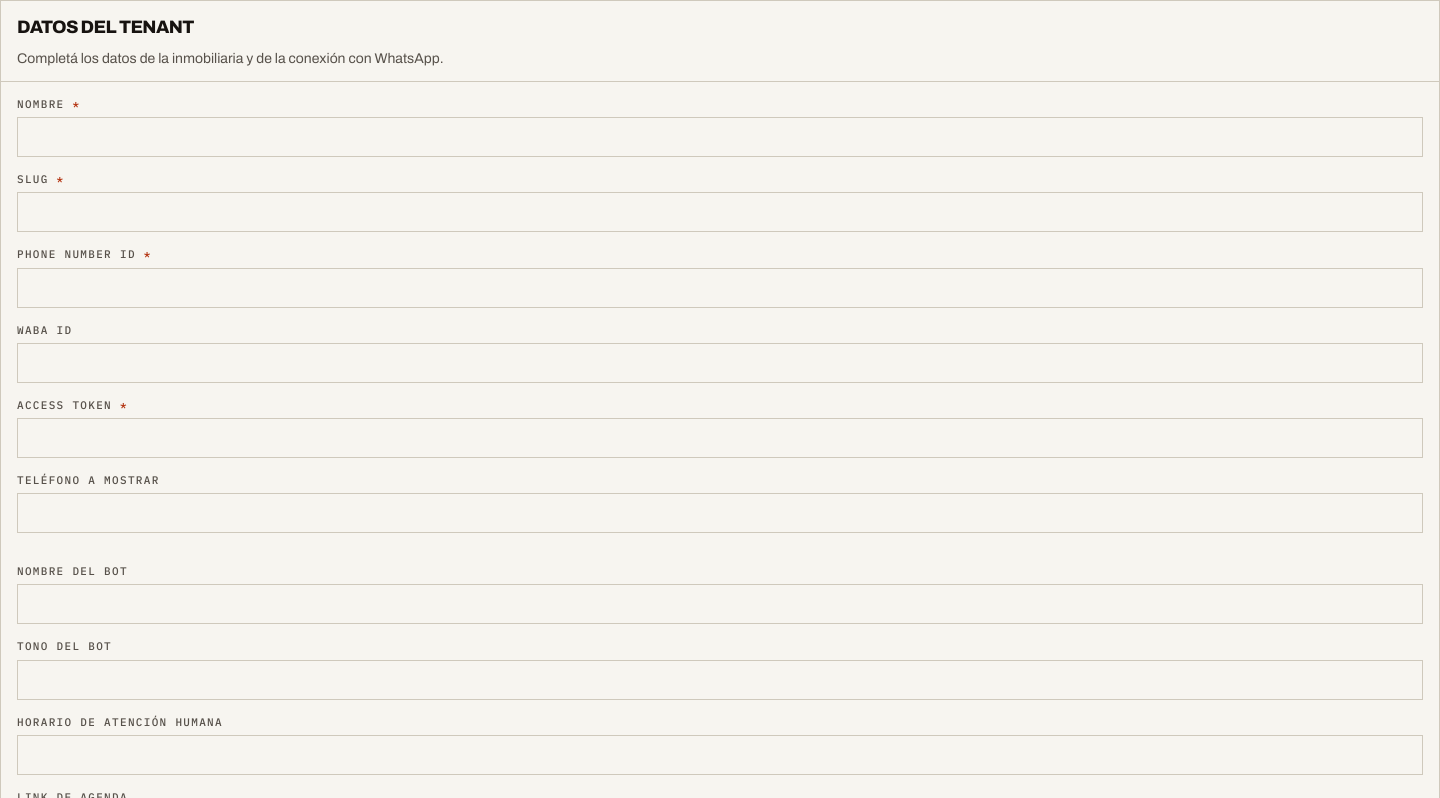
Test: TenantCreateForm › ConflictError sin substring reconocible se muestra como error general del formulario
This screenshot has width=1440, height=798.
In the field labelled "Nombre": {"x": 720, "y": 137} [17,117,1423,157], type "Inmobiliaria Test"
In the field labelled "Slug": {"x": 720, "y": 212} [17,192,1423,232], type "inmo-test"
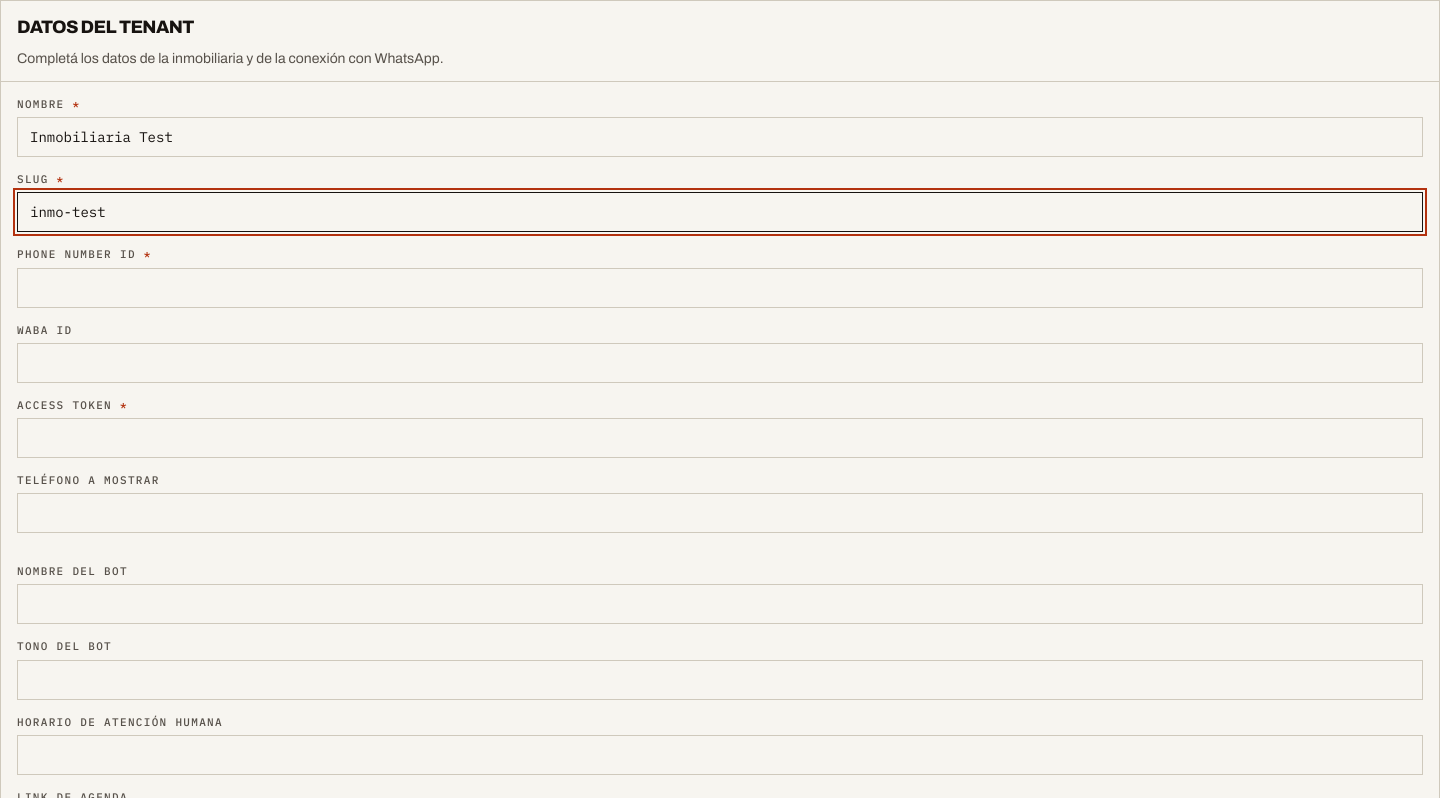
In the field labelled "Phone Number ID": {"x": 720, "y": 288} [17,268,1423,308], type "123456789"
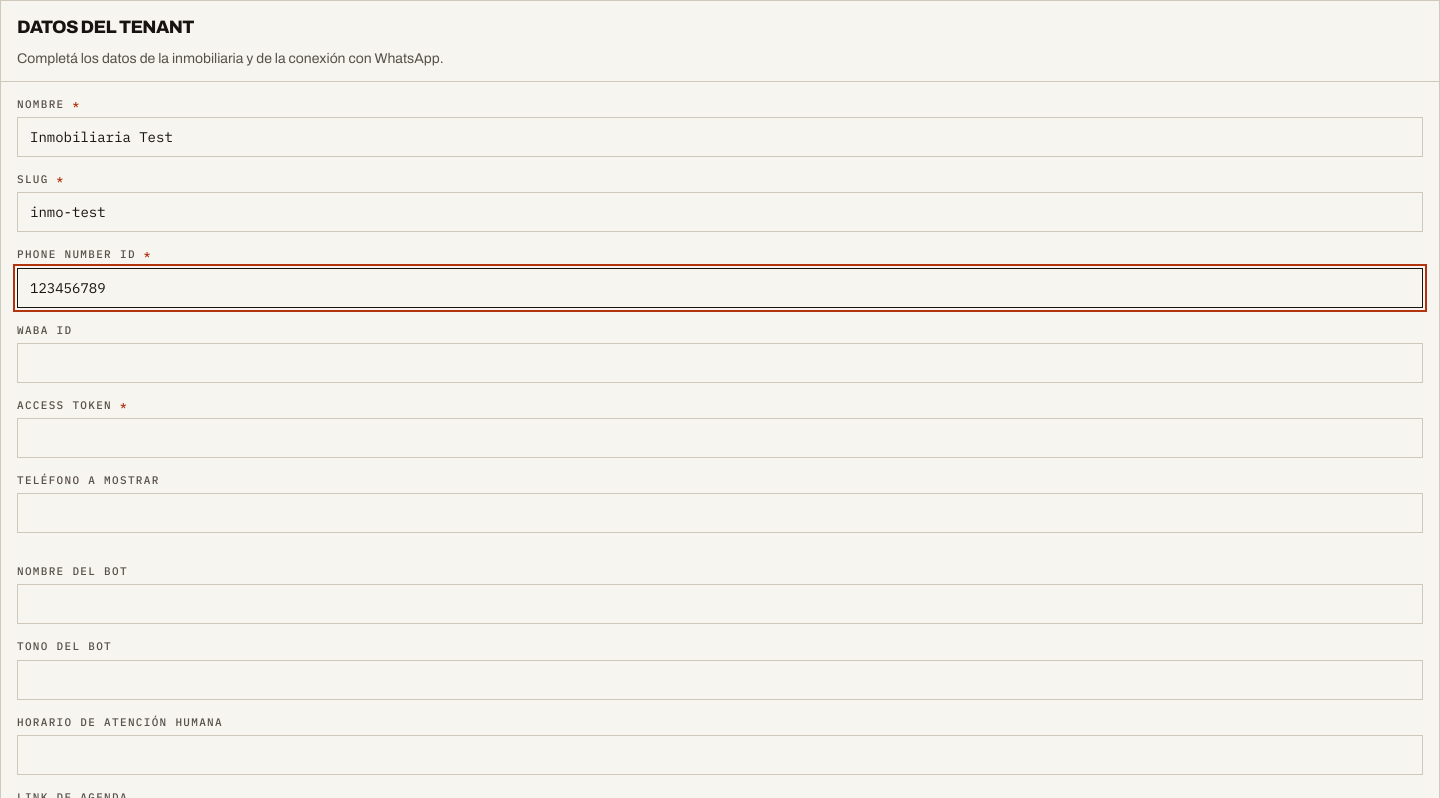
In the password field labelled "Access token": {"x": 720, "y": 438} [17,418,1423,458], type "secret-token"
(page scrolled)
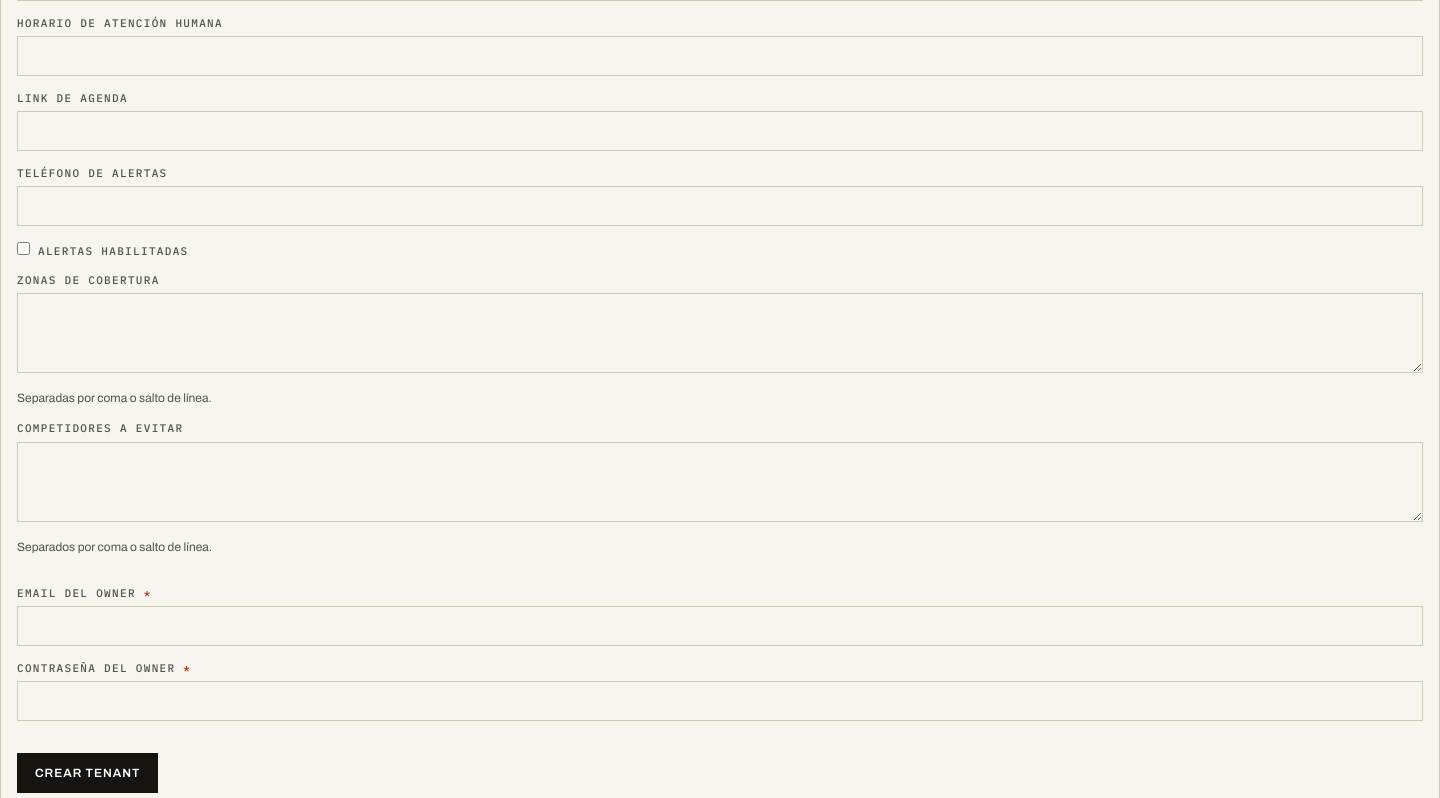
In the field labelled "Email del owner": {"x": 720, "y": 626} [17,606,1423,646], type "owner@inmo.com"
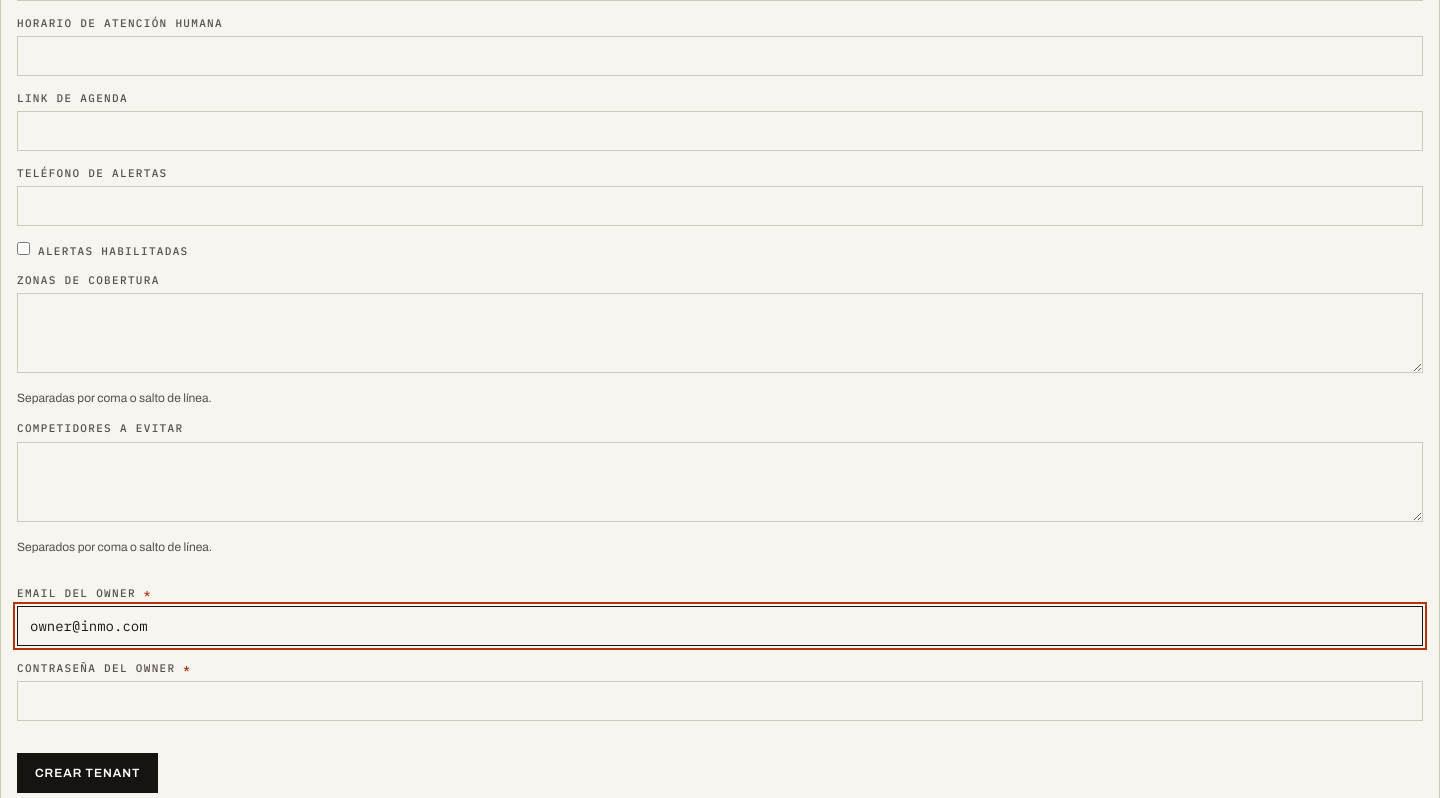
In the password field labelled "Contraseña del owner": {"x": 720, "y": 701} [17,681,1423,721], type "password123"
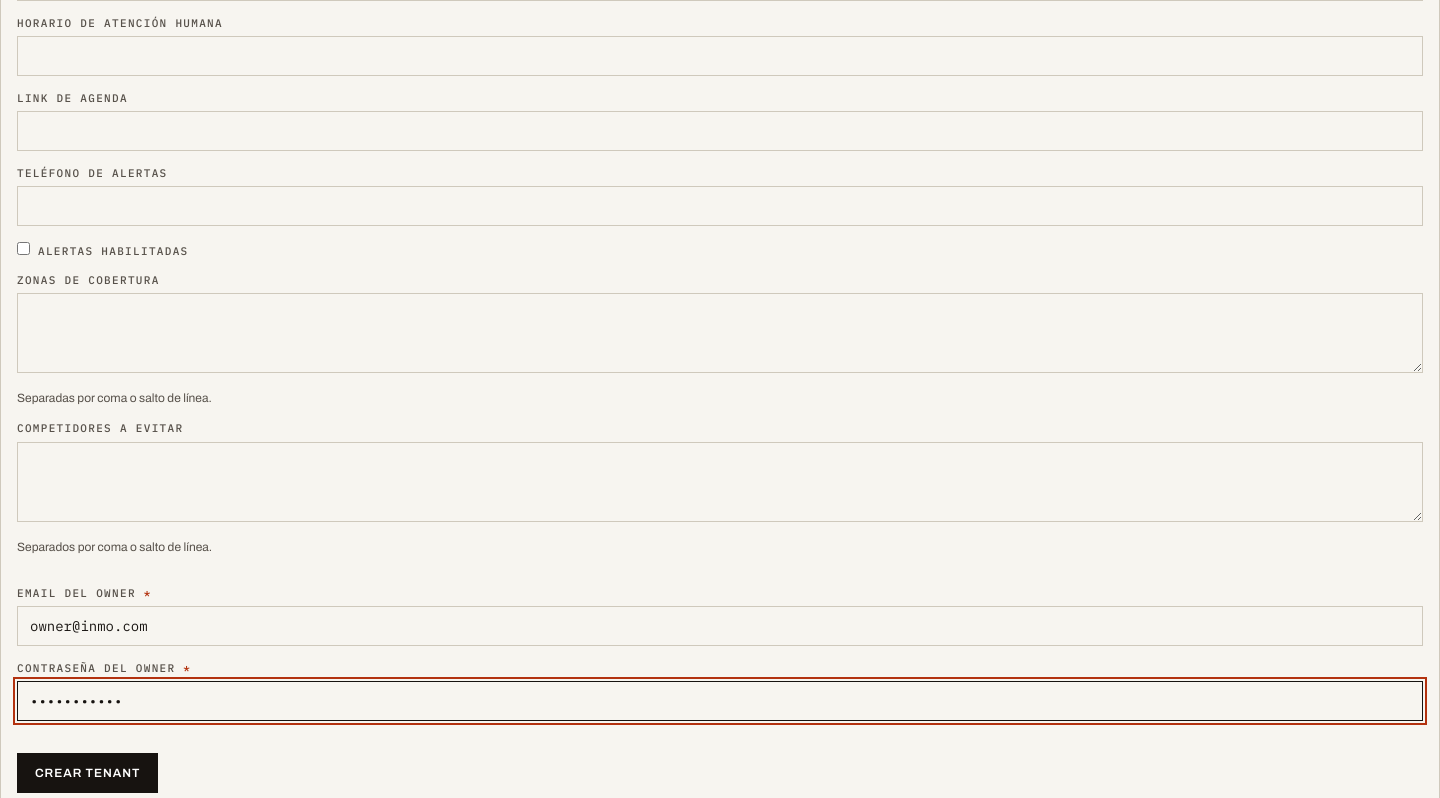
Click the button "Crear tenant": {"x": 88, "y": 773} [17,753,158,793]
(page scrolled)
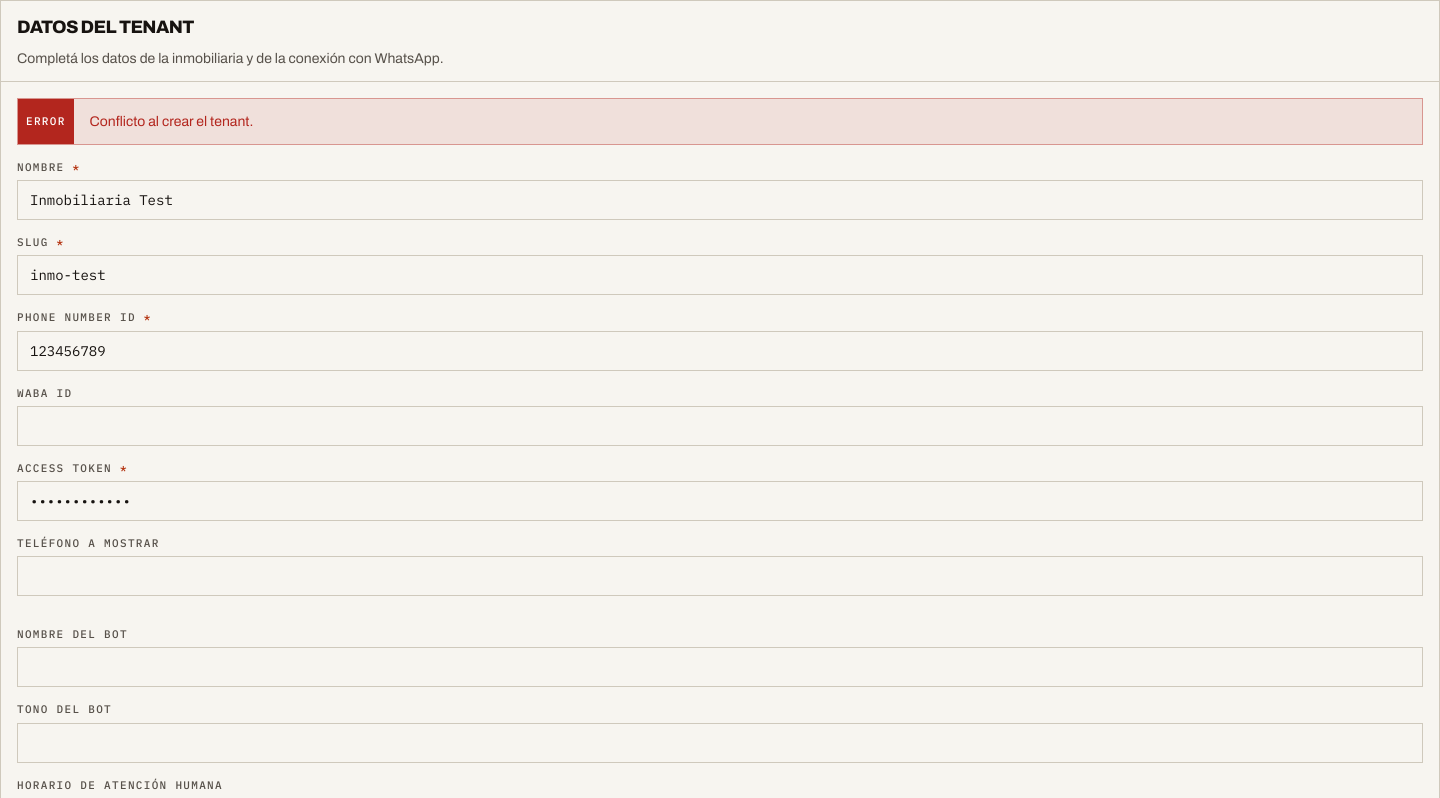
Result: the message with test id "error-banner" shows "Conflicto al crear el tenant." at [90,114,253,129]
